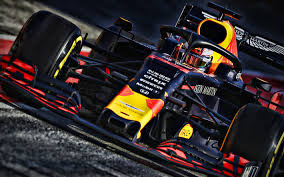FormulaOneCar: (2, 2, 283, 177)
